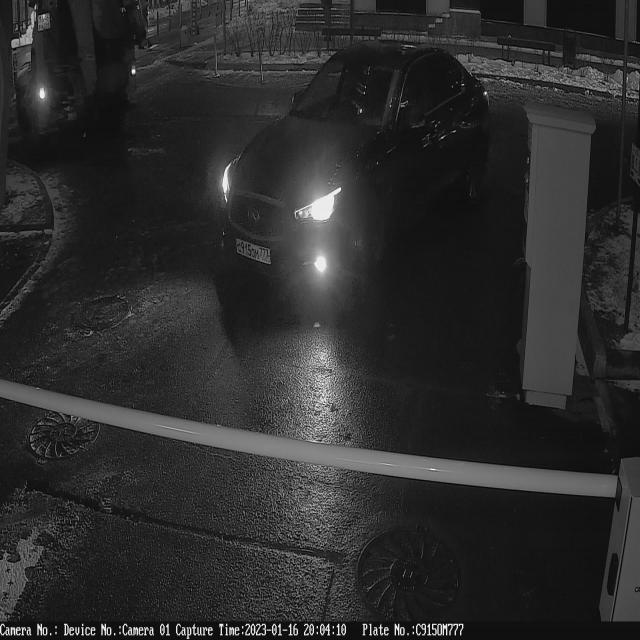car-plate-numbers: (233, 234, 273, 273)
